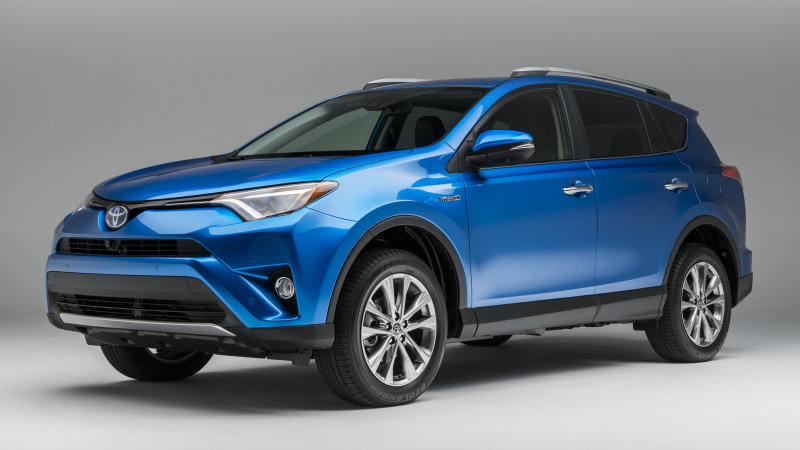Toyota RAV-4: (42, 72, 756, 410)
